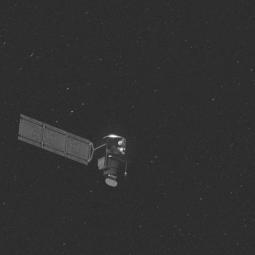earth_observation_sat_1: (13, 109, 137, 192)
